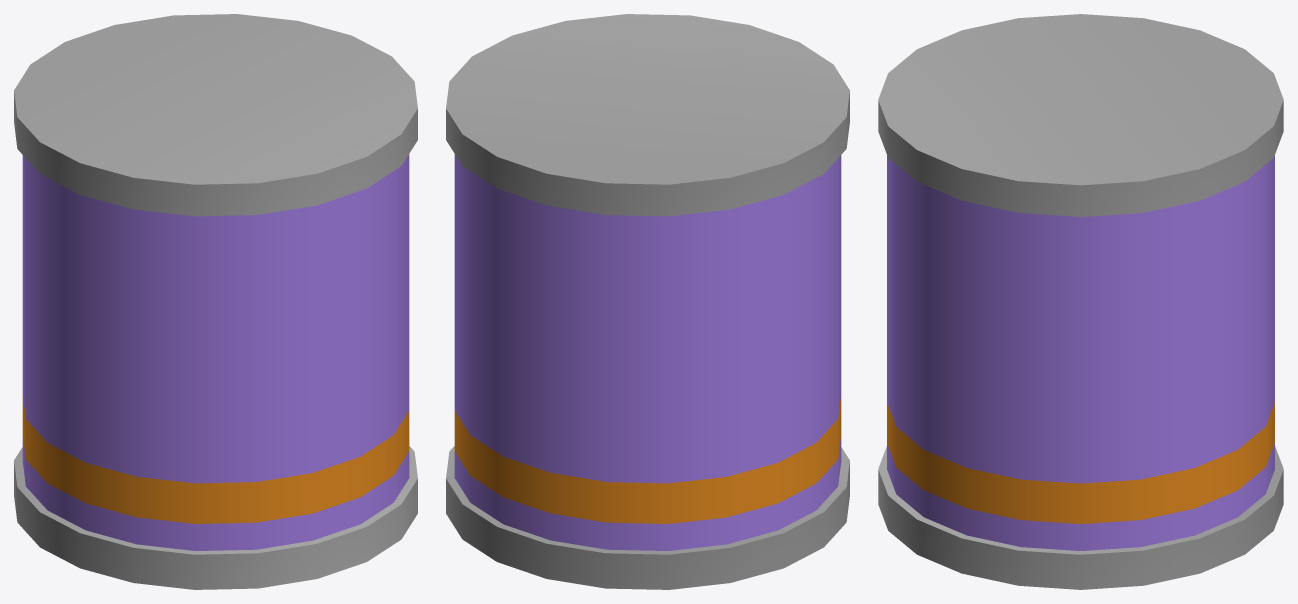
File: Ürün33.fbx
3 views of the same model, side by side, from view 1: azimuth 30°, elevation 25°; view 2: azimuth 150°, elevation 25°; view 3: azimuth 270°, elevation 25° (orthographic).
Parts seen in each view (by area): view 1: pCylinder20; view 2: pCylinder20; view 3: pCylinder20.
Part boxes in pixels (x1,y1,x2,y2): pCylinder20: (14,14,417,589); pCylinder20: (446,14,849,589); pCylinder20: (878,14,1283,589).
Size of the model in its own units: 9.51 by 10.47 by 9.51.
